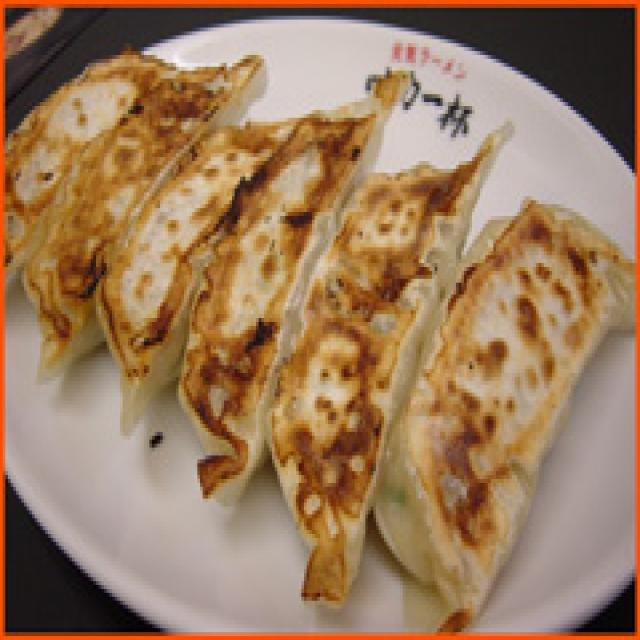带馅早点: (3, 51, 616, 613)
